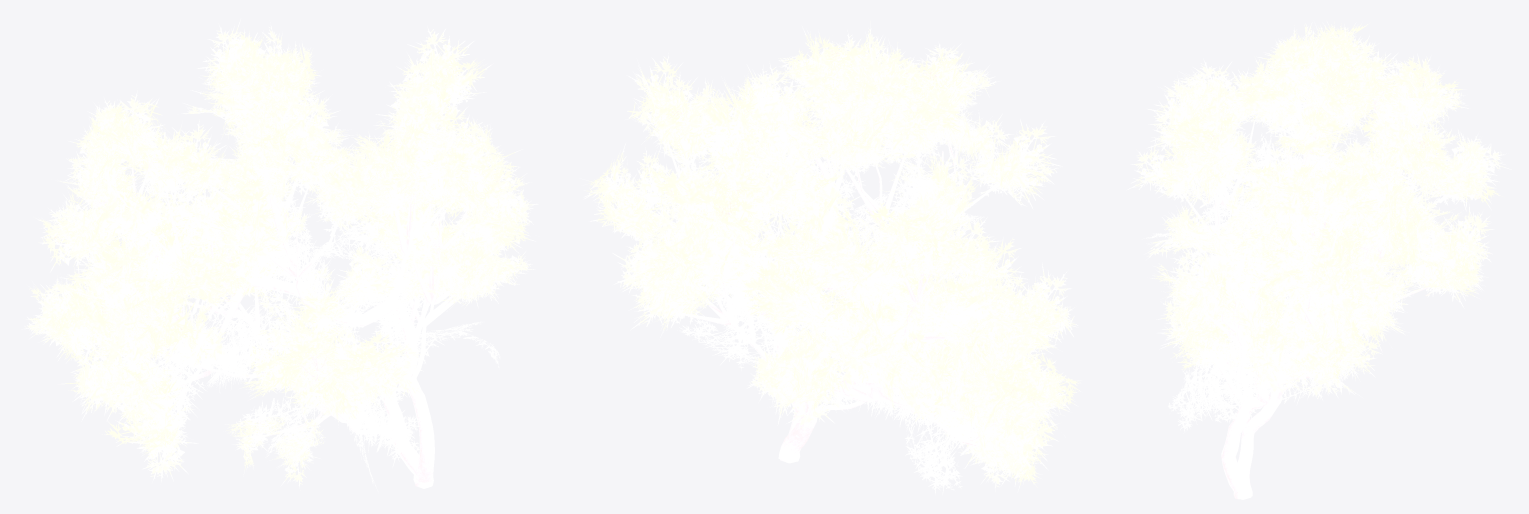
3 views of the same model, side by side, from view 1: azimuth 30°, elevation 25°; view 2: azimuth 150°, elevation 25°; view 3: azimuth 270°, elevation 25° (orthographic). The views are drawn at different scales.
Visible parts, largest first — view 1: SM_WoodlandGorse_01_LOD0; view 2: SM_WoodlandGorse_01_LOD0; view 3: SM_WoodlandGorse_01_LOD0.
Boxes of the visible parts, box(x1,y1,x2,y2) form: SM_WoodlandGorse_01_LOD0: box(21, 19, 538, 491); SM_WoodlandGorse_01_LOD0: box(580, 21, 1081, 494); SM_WoodlandGorse_01_LOD0: box(1126, 20, 1511, 499).
Bounding box in the file's own units: 3.53 × 3.27 × 2.72.
Materials: 1 (1 with a texture image).
